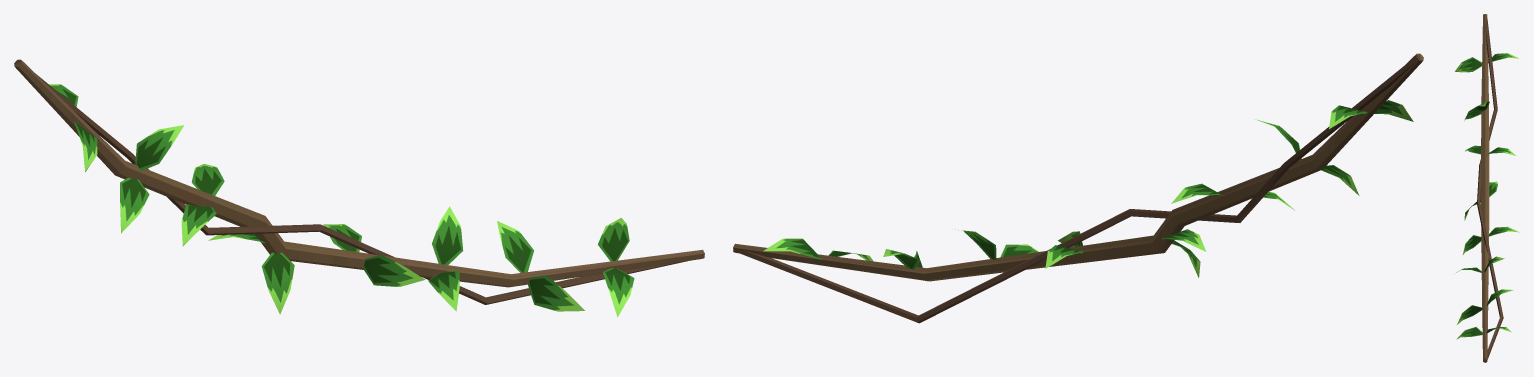
The model's file is Liane_4.FBX.
3 views of the same model, side by side, from view 1: azimuth 30°, elevation 25°; view 2: azimuth 150°, elevation 25°; view 3: azimuth 270°, elevation 25° (orthographic). The views are drawn at different scales.
Parts seen in each view (by area): view 1: liane_2; view 2: liane_2; view 3: liane_2.
Part boxes in pixels (x1,y1,x2,y2): liane_2: (14,59,704,316); liane_2: (733,53,1423,323); liane_2: (1455,14,1519,362).
Bounding box in the file's own units: 860 × 448 × 147.
